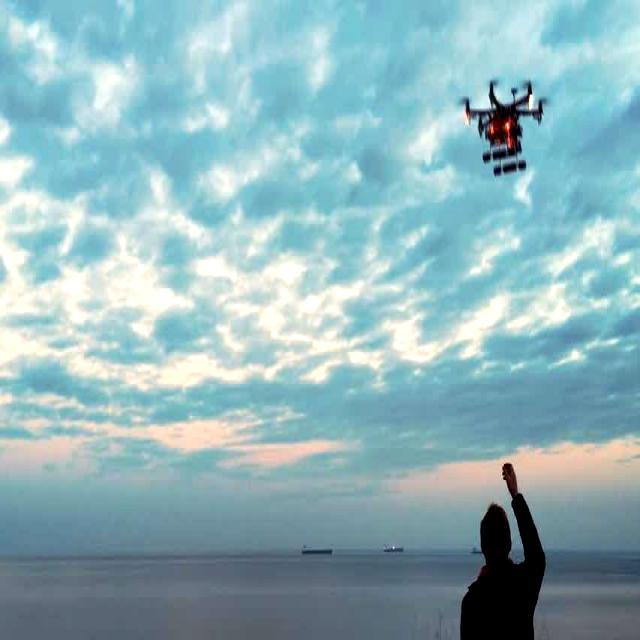drone: (458, 74, 550, 175)
